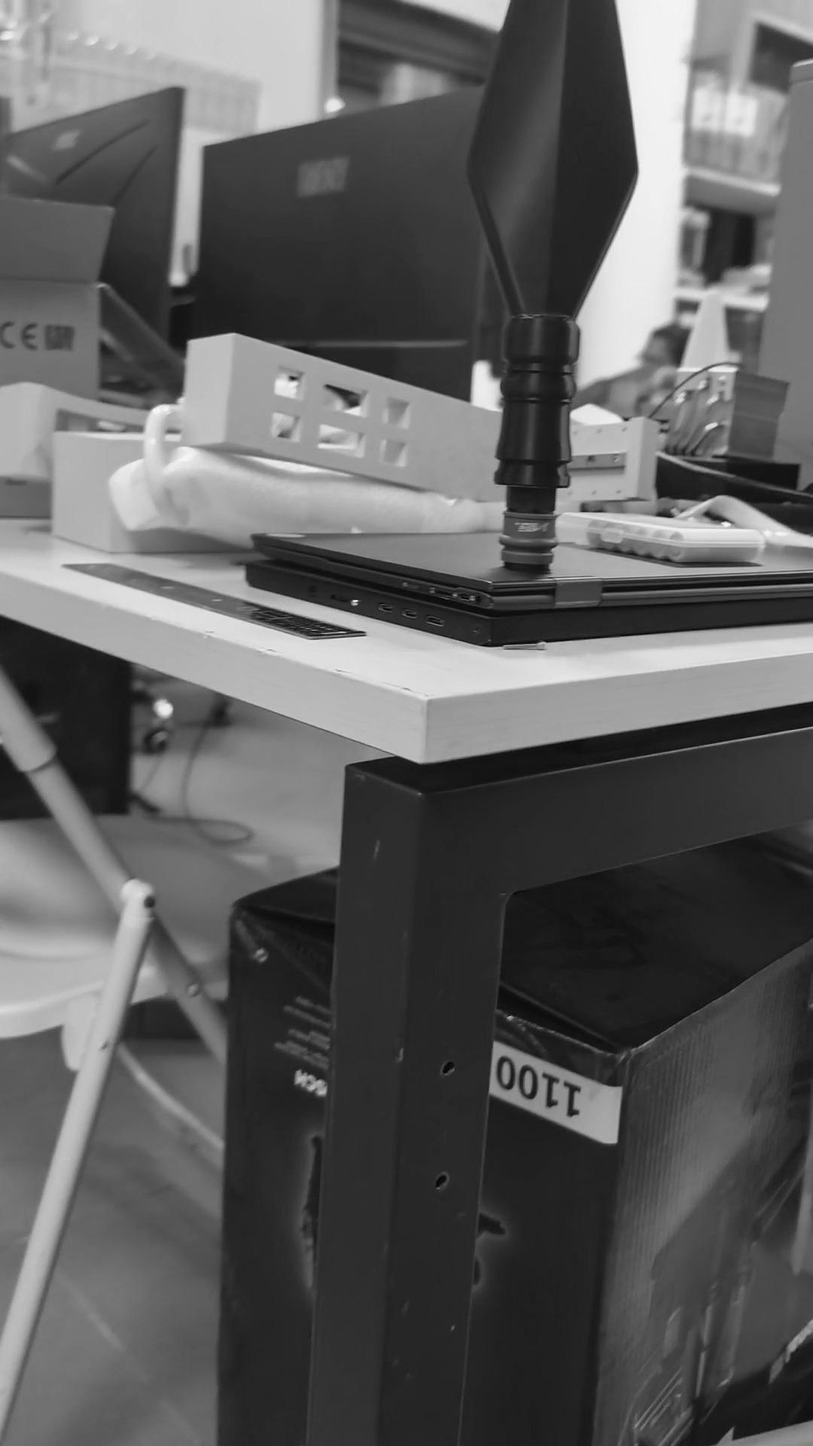base: (498, 506, 556, 575)
